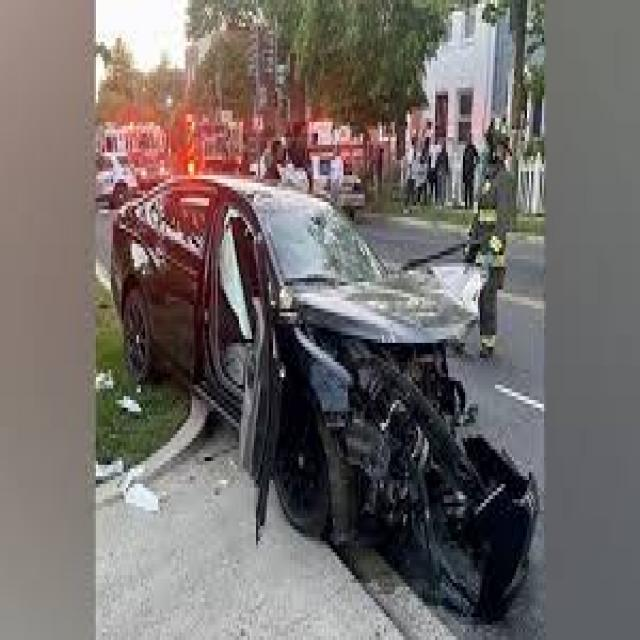accident: (99, 163, 500, 589)
